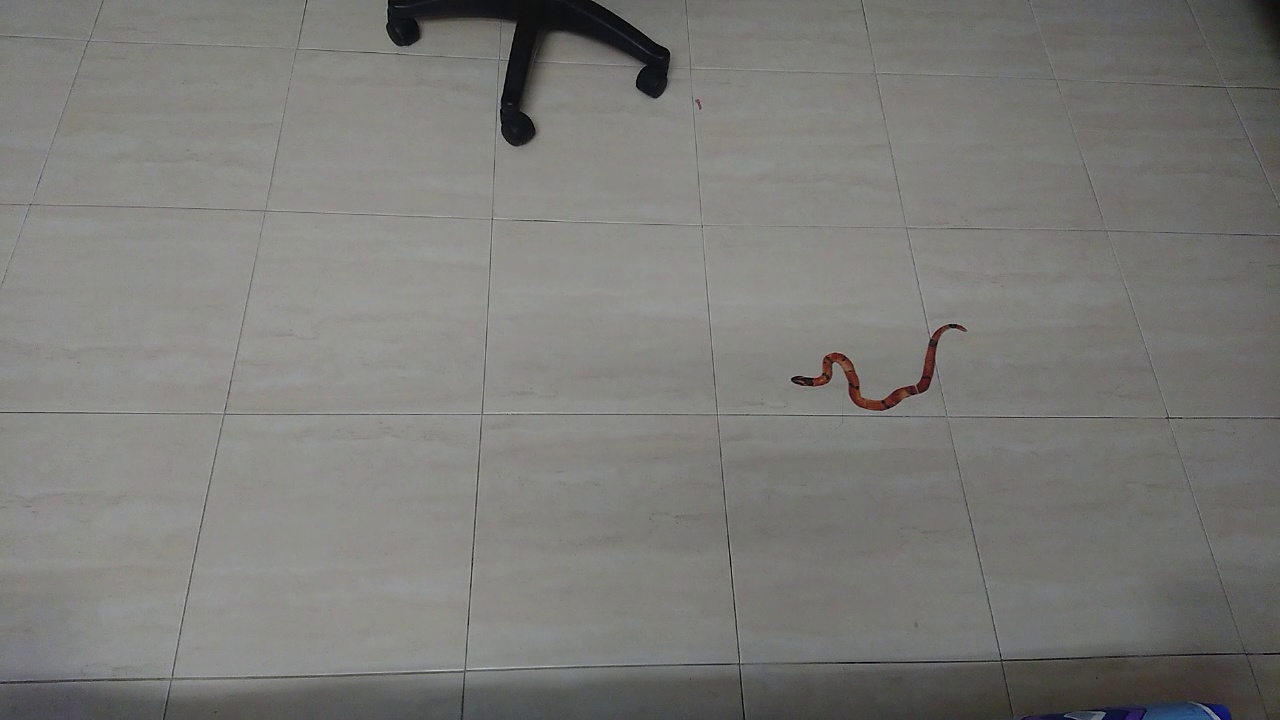snake: (774, 309, 979, 426)
